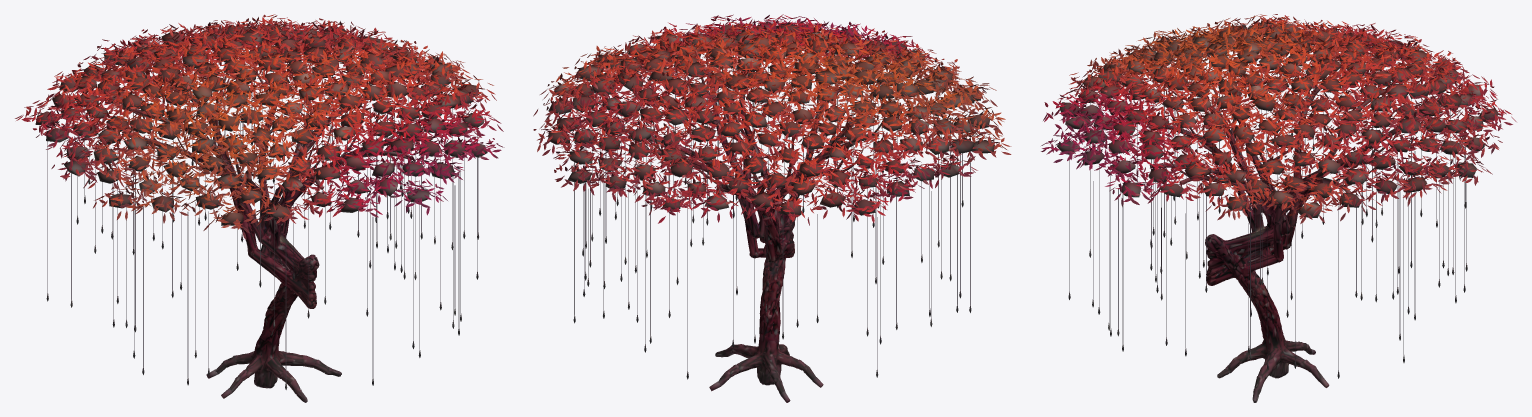
The model's file is agac_kizil_semsiye.glb.
3 renders of one model, left to right at view 1: azimuth 30°, elevation 25°; view 2: azimuth 150°, elevation 25°; view 3: azimuth 270°, elevation 25°, orthographic. The views are drawn at different scales.
Parts seen in each view (by area): view 1: agac_kizil_semsiye_LOD0; view 2: agac_kizil_semsiye_LOD0; view 3: agac_kizil_semsiye_LOD0.
Part boxes in pixels (x1=…): agac_kizil_semsiye_LOD0: x1=15, y1=14, x2=504, y2=402; agac_kizil_semsiye_LOD0: x1=533, y1=14, x2=1011, y2=402; agac_kizil_semsiye_LOD0: x1=1041, y1=14, x2=1516, y2=402.
Size of what is drawn, in the model's own units: 11.84 by 8.71 by 11.97.
